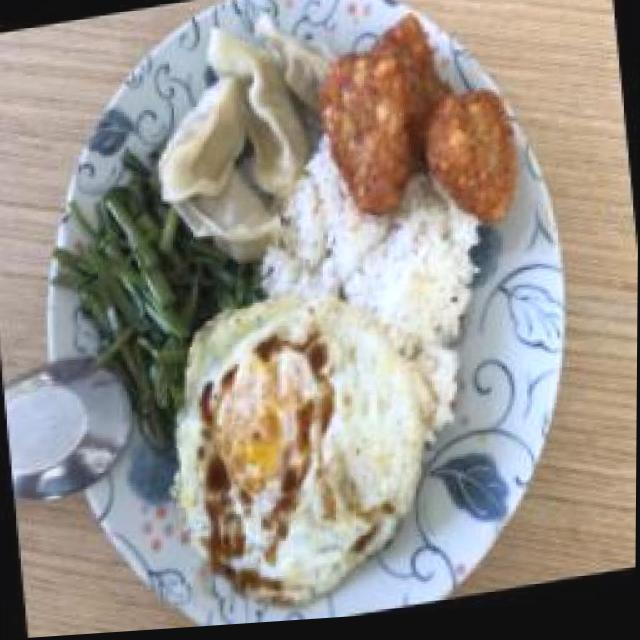fried_dumplings: (146, 10, 341, 275)
fried_eggs: (151, 280, 443, 625)
rice: (281, 173, 482, 358)
triangle_hash_brown: (311, 5, 533, 257)
water_spinach: (78, 167, 204, 404)
